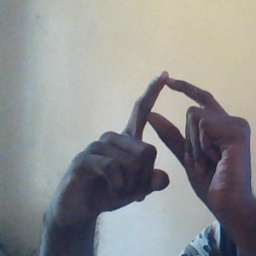D: (106, 65, 228, 187)
